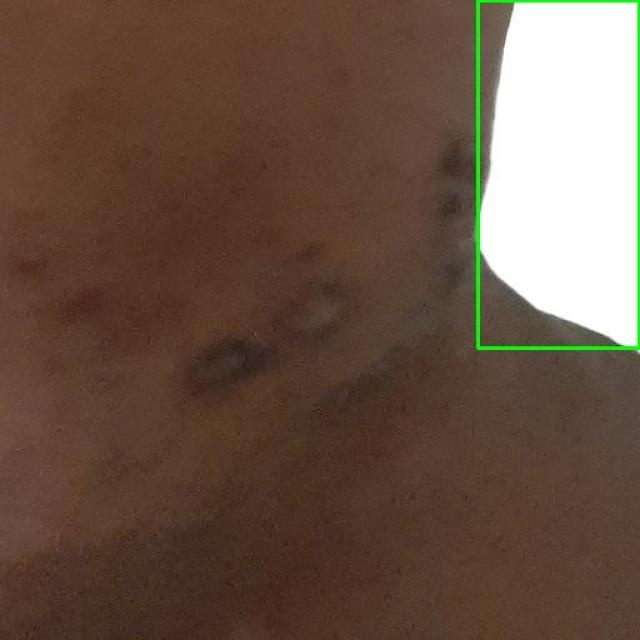Contact Dermatitis: (478, 0, 639, 348)
